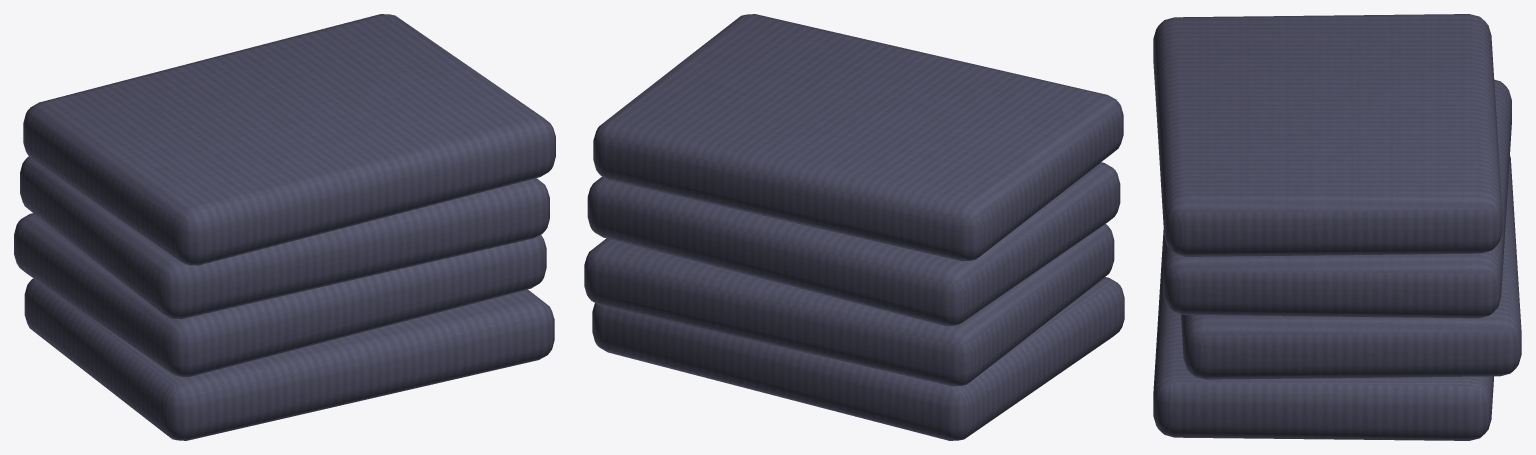
File: SM_Cloth_Stack_Charcoal.fbx
The picture shows the model from 3 angles, left to right: view 1: azimuth 30°, elevation 25°; view 2: azimuth 150°, elevation 25°; view 3: azimuth 270°, elevation 25°; orthographic projection. The views are drawn at different scales.
Visible parts, largest first — view 1: SM_Cloth_Stack_Charcoal; view 2: SM_Cloth_Stack_Charcoal; view 3: SM_Cloth_Stack_Charcoal.
Part boxes in pixels (x1,y1,x2,y2): SM_Cloth_Stack_Charcoal: (14, 14, 555, 440); SM_Cloth_Stack_Charcoal: (584, 14, 1124, 440); SM_Cloth_Stack_Charcoal: (1153, 14, 1521, 440).
Size of what is drawn, in the model's own units: 0.3863 by 0.223 by 0.3049.
Materials: 1 (1 with a texture image).
